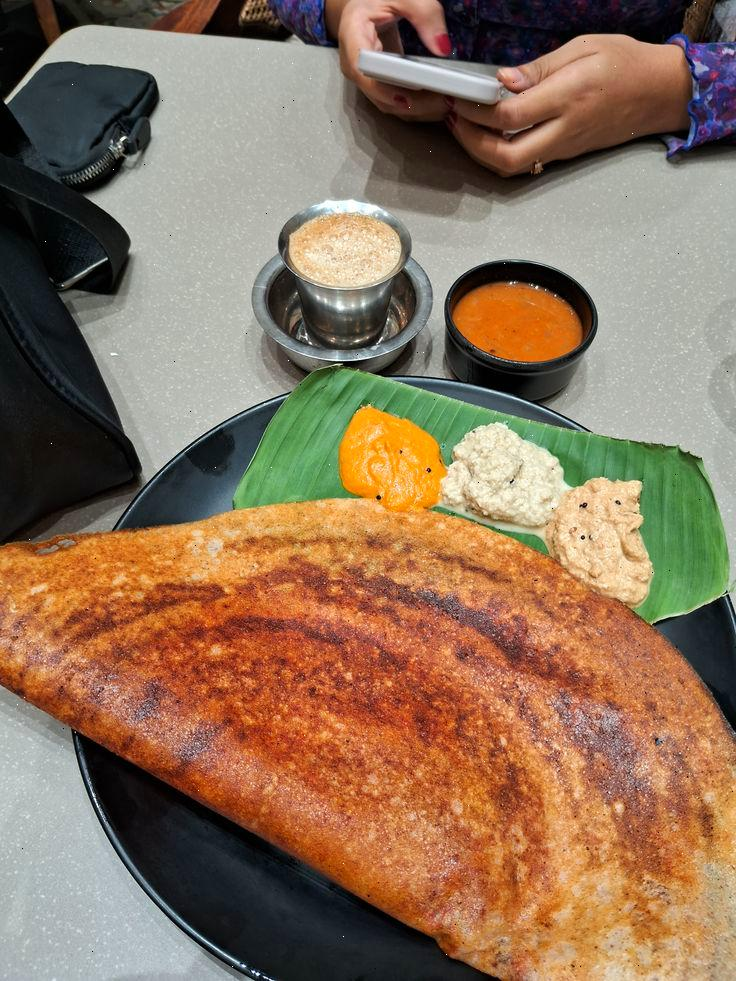dosa: (0, 513, 736, 981)
